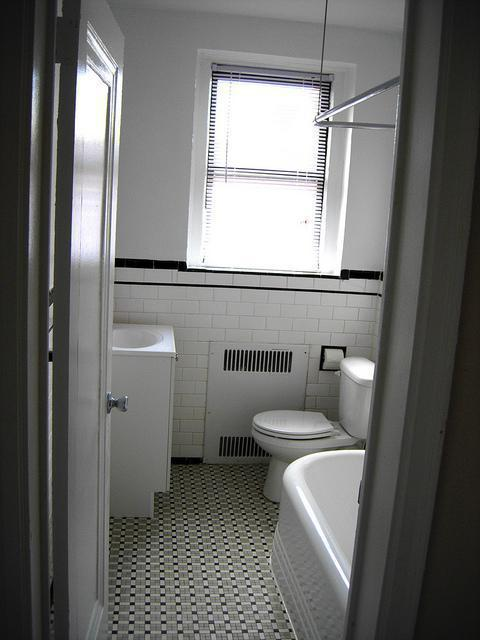Lavamanos: (84, 310, 177, 524)
Sanitario: (257, 346, 377, 506)
